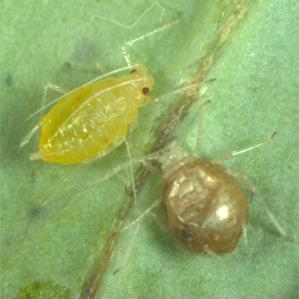Green peach aphid: (115, 119, 285, 269), (25, 22, 173, 191)
